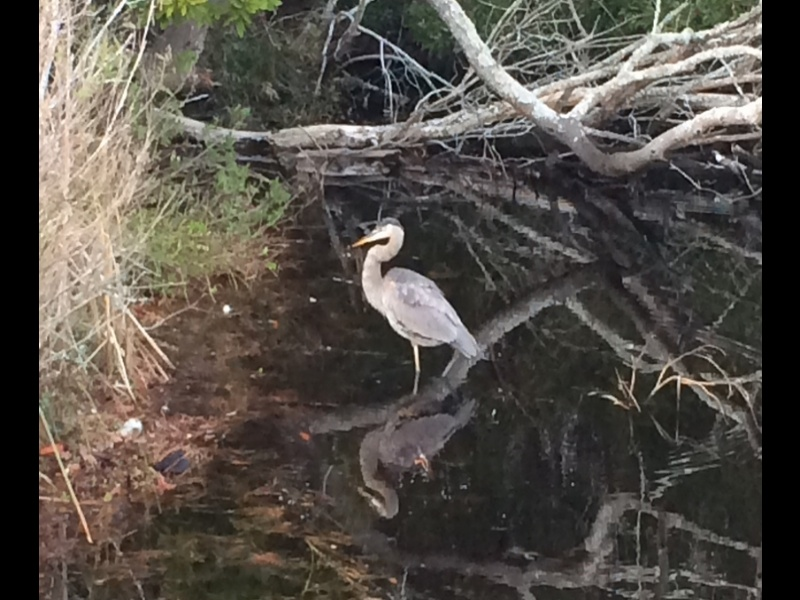heron: (352, 216, 486, 397)
